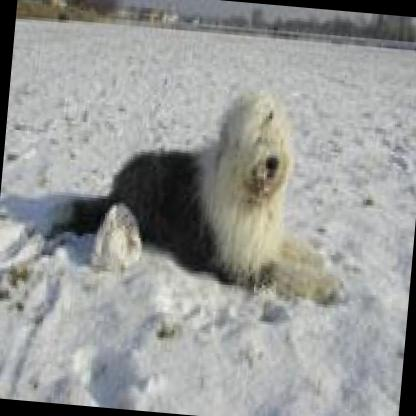Old_English_sheepdog: (40, 67, 366, 312)
